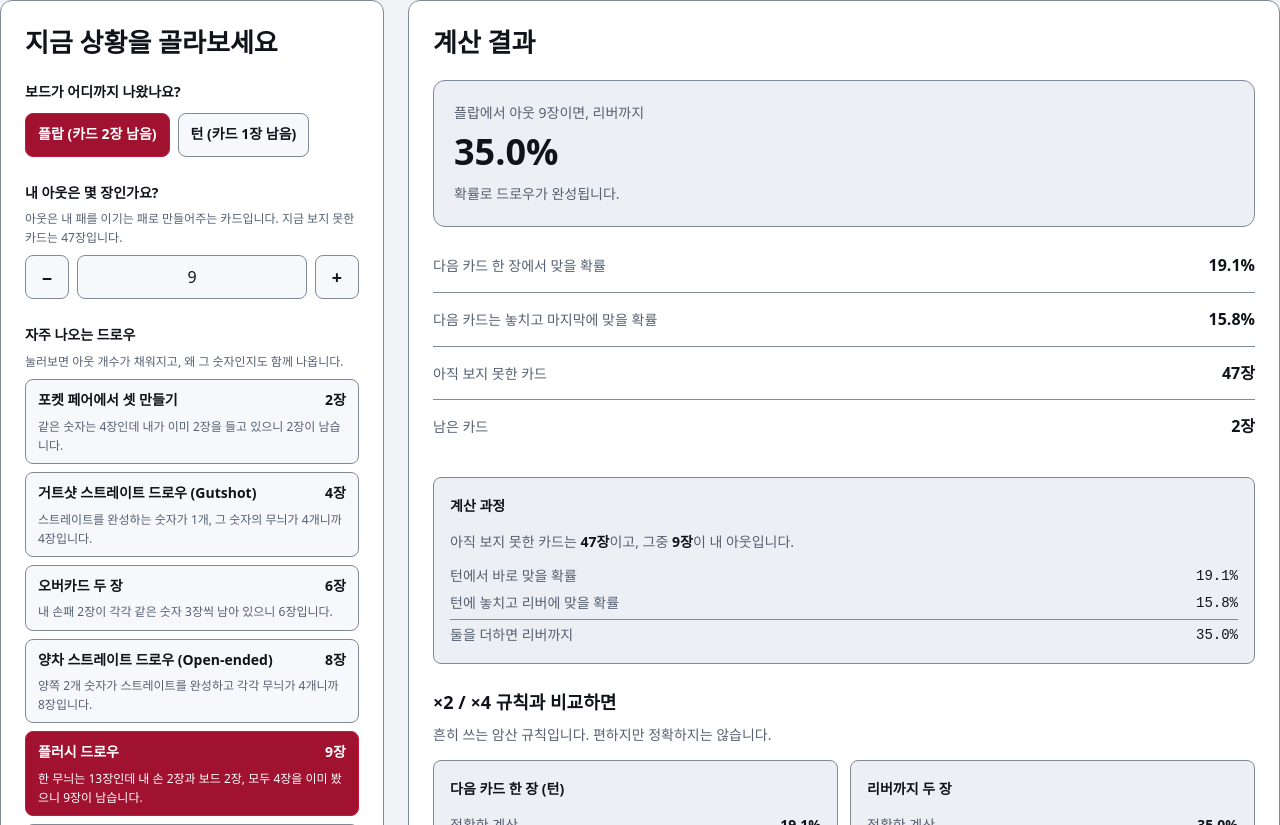
Scenario: OutsCalculator › collapses to ONE comparison on the turn, because it is one event
The width and height of the screenshot is (1280, 825).
Click the button "턴 (카드 1장 남음)": (243, 135) [178,113,309,157]
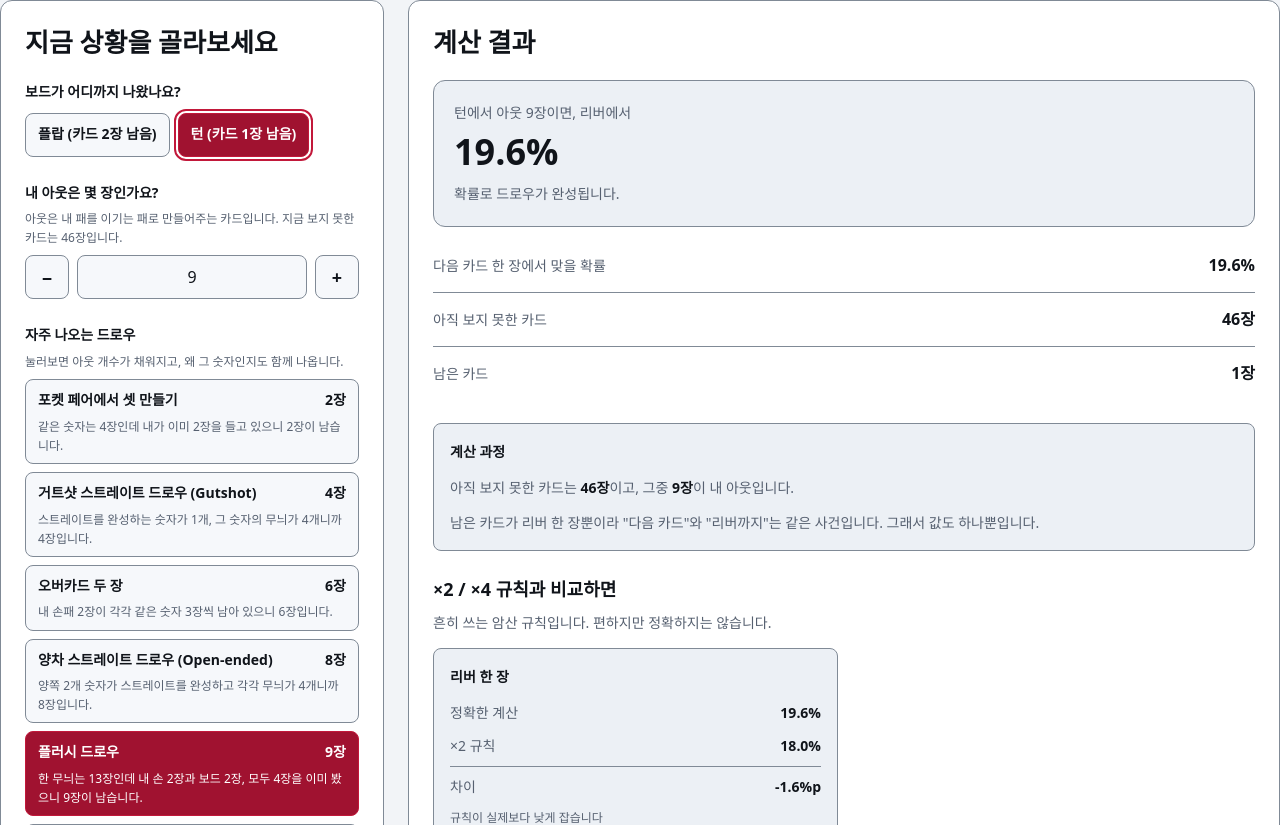
expect the text "정확한 계산" is shown once: met, box [450,701,518,726]
expect the text "리버 한 장" is shown: met, box [450,667,509,686]
